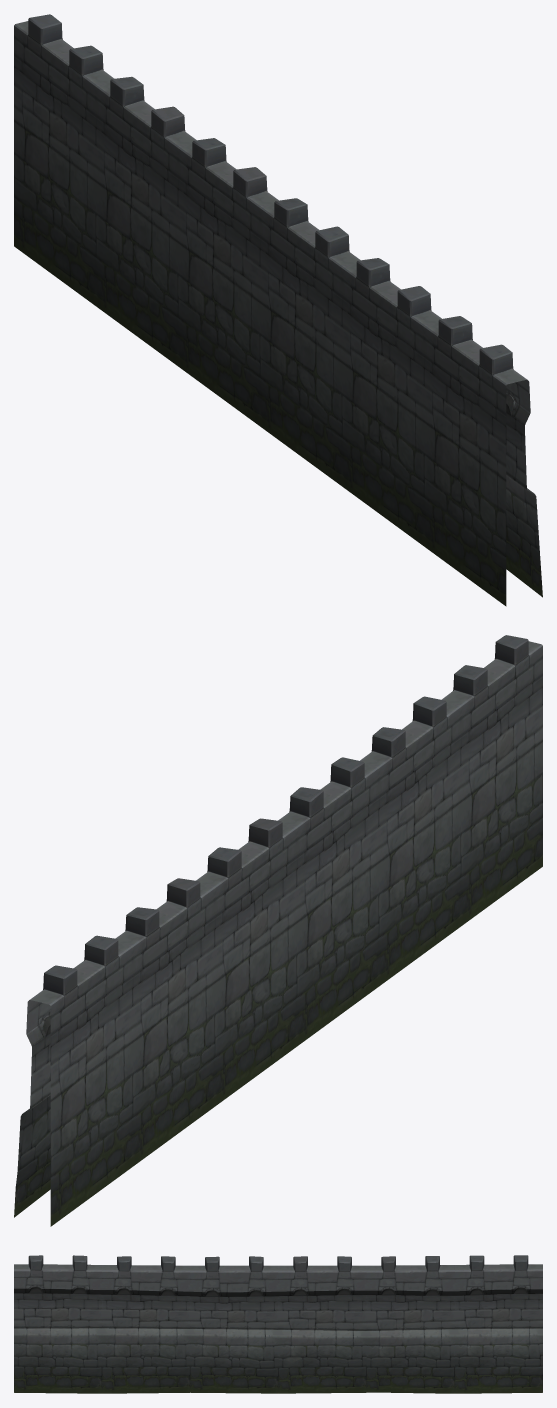
File: castlewall_long.fbx
The picture shows the model from 3 angles, top to bottom: view 1: azimuth 30°, elevation 25°; view 2: azimuth 150°, elevation 25°; view 3: azimuth 270°, elevation 25°; orthographic projection. The views are drawn at different scales.
Parts seen in each view (by area): view 1: GEOM0_LOD0; view 2: GEOM0_LOD0; view 3: GEOM0_LOD0.
Part boxes in pixels (x1=…): GEOM0_LOD0: x1=14, y1=14, x2=542, y2=606; GEOM0_LOD0: x1=14, y1=635, x2=542, y2=1226; GEOM0_LOD0: x1=14, y1=1255, x2=542, y2=1393.
Size of what is drawn, in the model's own units: 171 by 963 by 3600.
